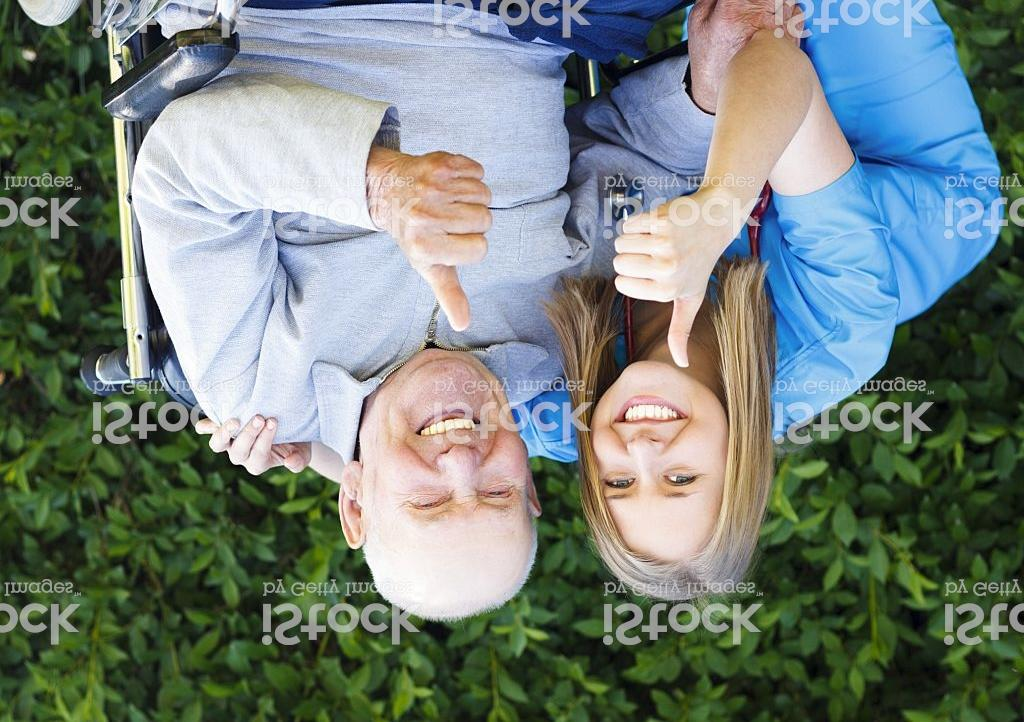thumbsdown: (397, 147, 495, 333), (612, 203, 704, 369)
